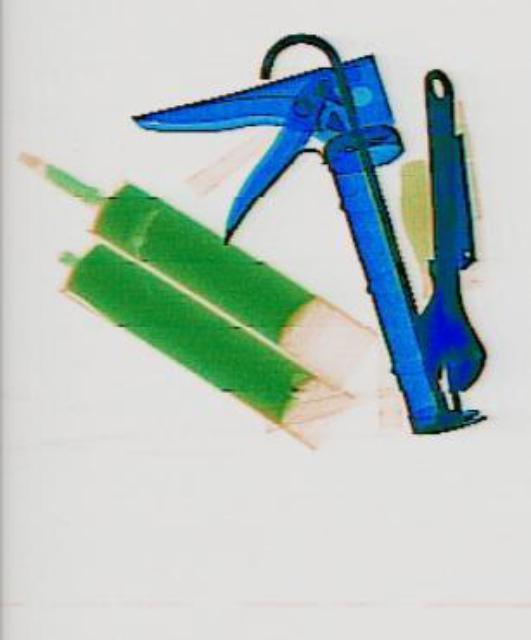Knife: (127, 32, 480, 502)
Wrench: (375, 65, 486, 393)
